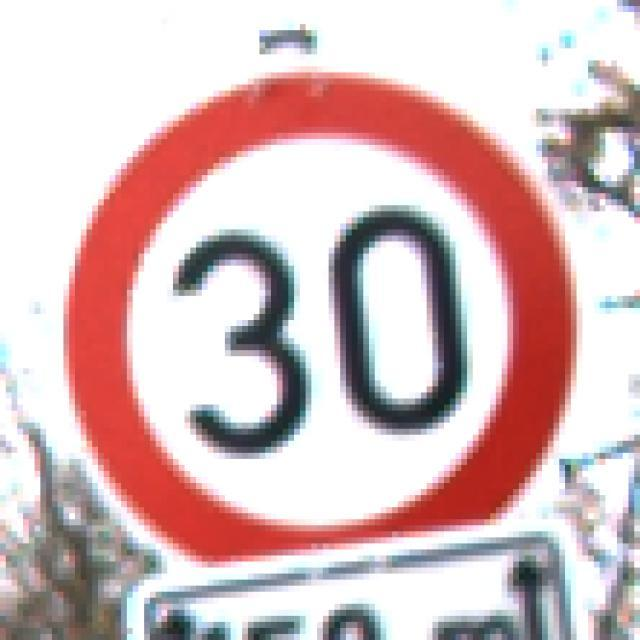speed limit 30: (53, 65, 586, 566)
